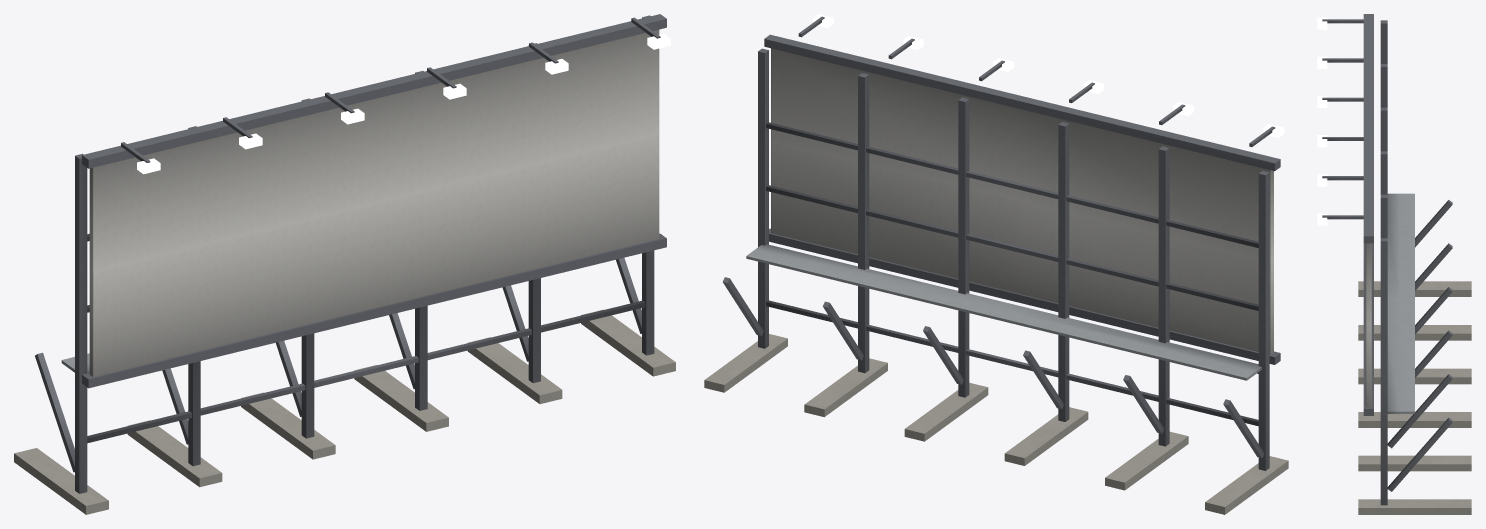
The model's file is roof_billboard.glb.
3 renders of one model, left to right at view 1: azimuth 30°, elevation 25°; view 2: azimuth 150°, elevation 25°; view 3: azimuth 270°, elevation 25°, orthographic. The views are drawn at different scales.
Parts seen in each view (by area): view 1: face, roof_billboard_paint_grey, roof_billboard_concrete, roof_billboard_light_head; view 2: face, roof_billboard_paint_grey, roof_billboard_concrete, walk, roof_billboard_light_head; view 3: roof_billboard_paint_grey, roof_billboard_concrete, walk, face, roof_billboard_light_head.
Boxes of the visible parts, <box> form: face: <box>89,29,659,376</box>; roof_billboard_paint_grey: <box>35,14,666,493</box>; roof_billboard_concrete: <box>14,309,675,514</box>; roof_billboard_light_head: <box>137,34,670,174</box>; face: <box>771,48,1273,354</box>; roof_billboard_paint_grey: <box>723,16,1280,470</box>; roof_billboard_concrete: <box>704,334,1288,514</box>; walk: <box>746,244,1261,380</box>; roof_billboard_light_head: <box>813,14,1284,137</box>; roof_billboard_paint_grey: <box>1322,14,1452,505</box>; roof_billboard_concrete: <box>1358,281,1471,514</box>; walk: <box>1387,193,1414,413</box>; face: <box>1365,243,1371,406</box>; roof_billboard_light_head: <box>1317,17,1327,225</box>.
Size of what is drawn, in the model's own units: 10.4 by 6.08 by 3.
Materials: 5 (4 with a texture image).
